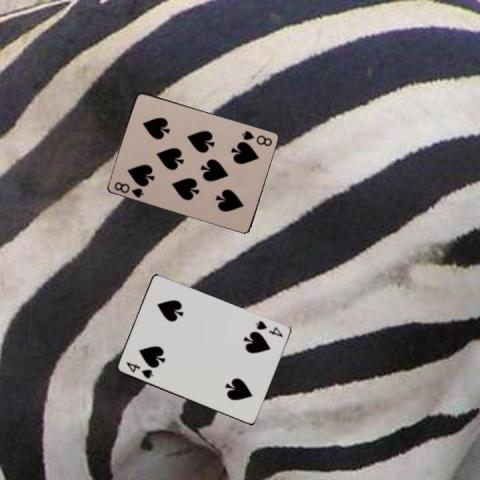4s: (122, 359, 154, 380), (252, 318, 284, 339)
8s: (112, 178, 146, 198), (239, 128, 274, 147)
